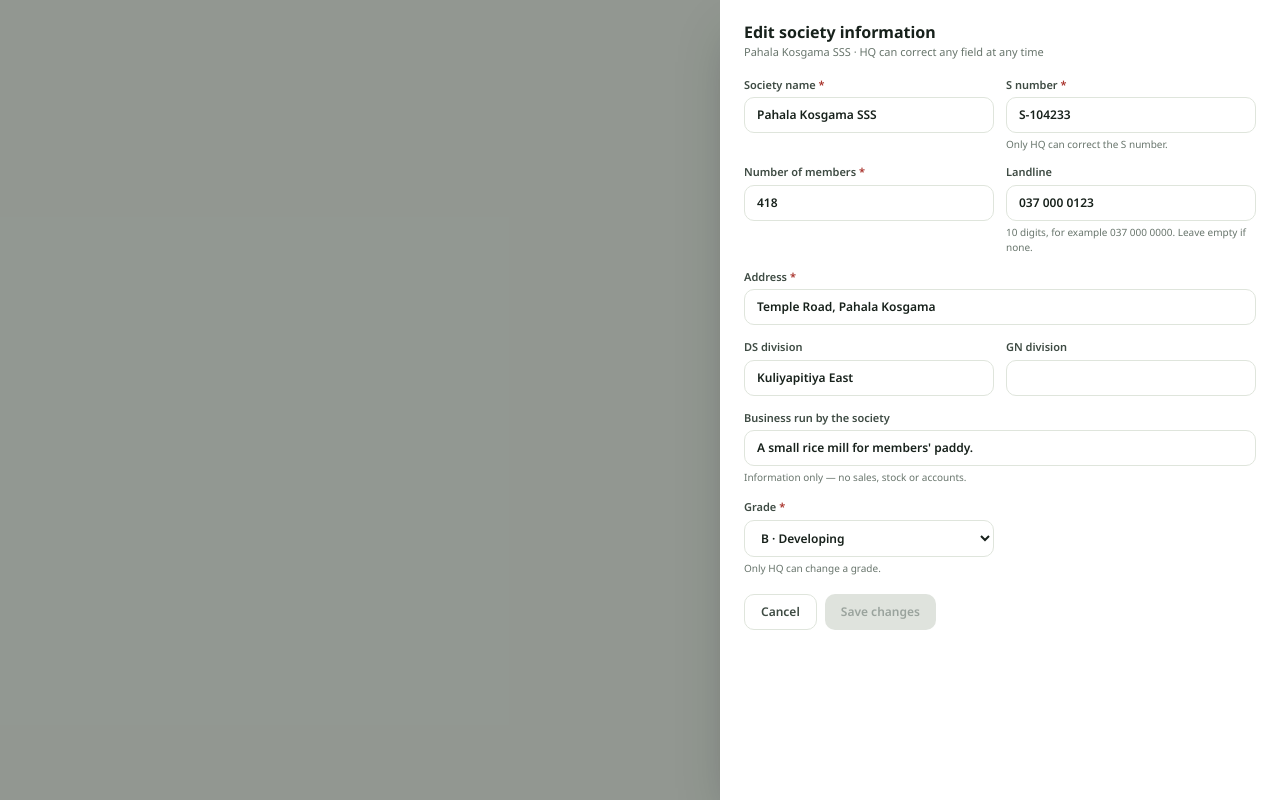
D05e HQ edit society information › flags a member count that is not a number
Replace the text in the field labelled "Number of members *" with "41a" at [869, 202], box top-left (744, 184), bottom-right (994, 220)
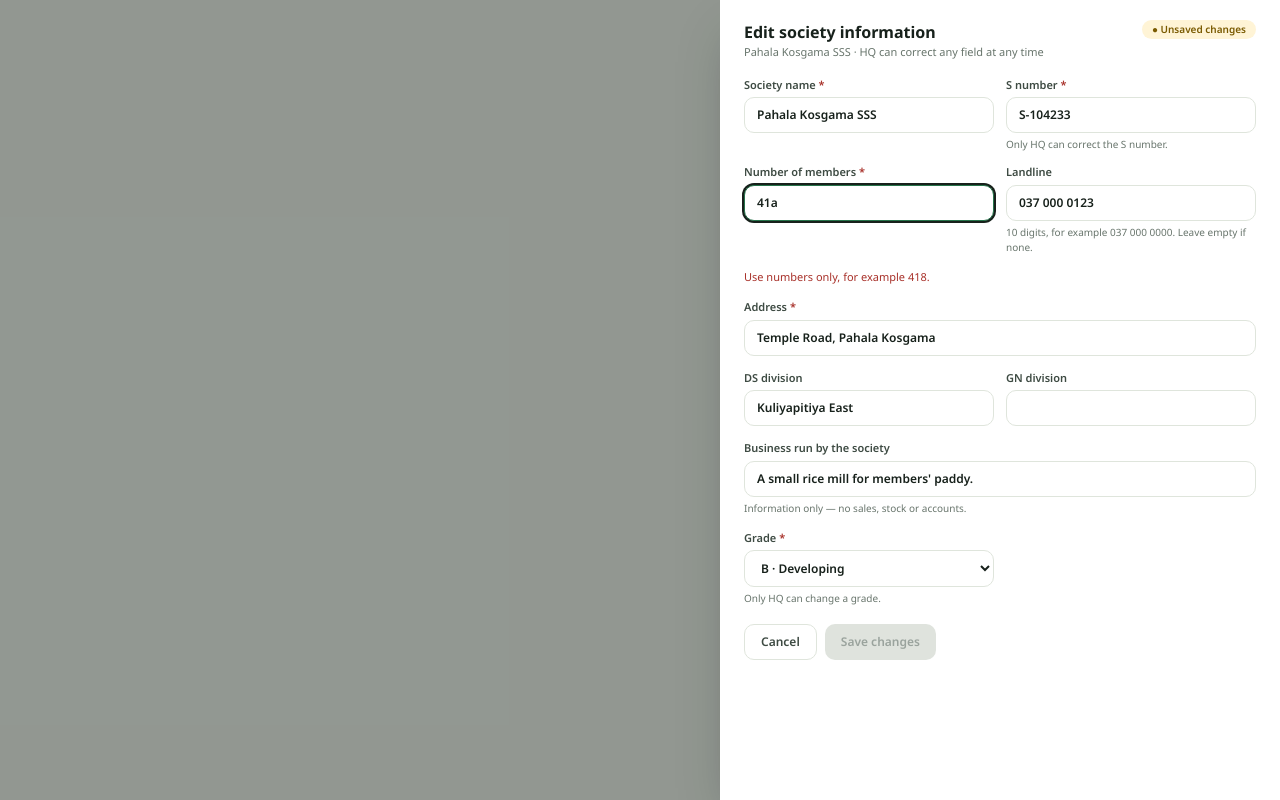
Expected: the message shows "Use numbers only", top-left (744, 268), bottom-right (930, 284)
Expected: the button "Save changes" is disabled, top-left (825, 624), bottom-right (936, 660)
